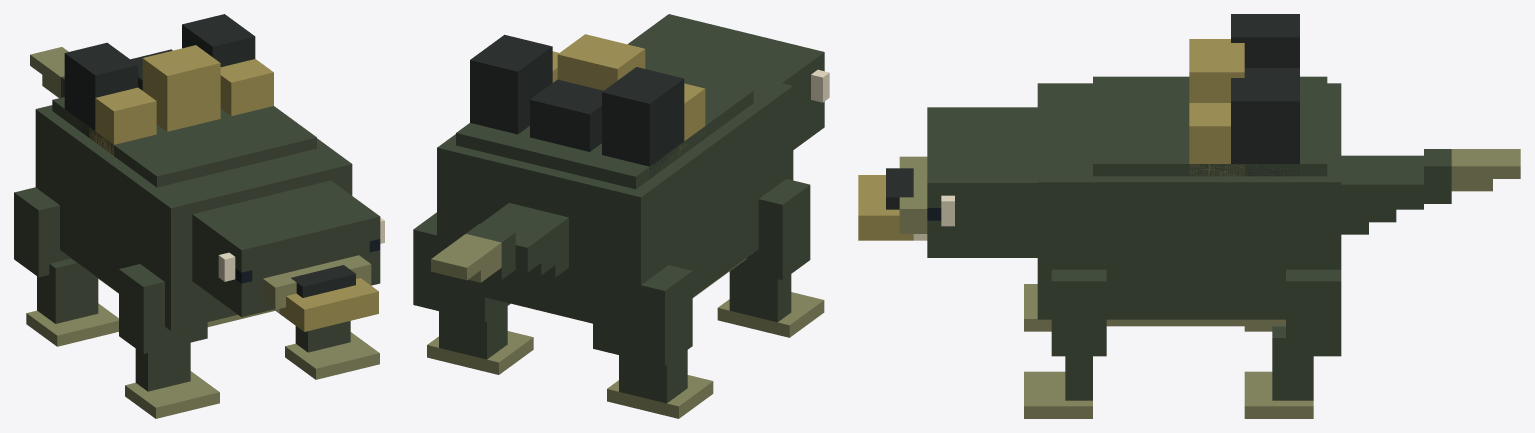
Rendered from root_stalker.glb.
3 renders of one model, left to right at view 1: azimuth 30°, elevation 25°; view 2: azimuth 150°, elevation 25°; view 3: azimuth 270°, elevation 25°, orthographic. The views are drawn at different scales.
Parts seen in each view (by area): view 1: root_stalker/thorax, root_stalker/head, root_stalker/root_shoulder_growth, root_stalker/left_foreleg, root_stalker/left_hindleg, root_stalker/right_foreleg, root_stalker/tail; view 2: root_stalker/thorax, root_stalker/root_shoulder_growth, root_stalker/left_hindleg, root_stalker/left_foreleg, root_stalker/head, root_stalker/right_hindleg, root_stalker/tail; view 3: root_stalker/thorax, root_stalker/head, root_stalker/root_shoulder_growth, root_stalker/tail, root_stalker/right_hindleg, root_stalker/right_foreleg, root_stalker/left_foreleg.
Boxes of the visible parts, bbox=[...] form: root_stalker/thorax: bbox=[35, 97, 352, 330]; root_stalker/head: bbox=[192, 180, 384, 331]; root_stalker/root_shoulder_growth: bbox=[64, 14, 273, 155]; root_stalker/left_foreleg: bbox=[119, 264, 219, 418]; root_stalker/left_hindleg: bbox=[14, 187, 118, 346]; root_stalker/right_foreleg: bbox=[285, 321, 379, 379]; root_stalker/tail: bbox=[30, 47, 68, 97]; root_stalker/thorax: bbox=[437, 50, 793, 335]; root_stalker/root_shoulder_growth: bbox=[470, 34, 705, 178]; root_stalker/left_hindleg: bbox=[593, 265, 713, 418]; root_stalker/left_foreleg: bbox=[717, 179, 824, 337]; root_stalker/head: bbox=[627, 14, 829, 149]; root_stalker/right_hindleg: bbox=[413, 212, 533, 374]; root_stalker/tail: bbox=[431, 203, 568, 282]; root_stalker/thorax: bbox=[1037, 76, 1341, 326]; root_stalker/head: bbox=[858, 107, 1037, 257]; root_stalker/root_shoulder_growth: bbox=[1189, 14, 1299, 176]; root_stalker/tail: bbox=[1341, 149, 1520, 234]; root_stalker/right_hindleg: bbox=[1244, 269, 1341, 418]; root_stalker/right_foreleg: bbox=[1024, 269, 1106, 418]; root_stalker/left_foreleg: bbox=[1024, 284, 1051, 331].
Size of the model in its own units: 0.6562 by 0.75 by 1.5.
